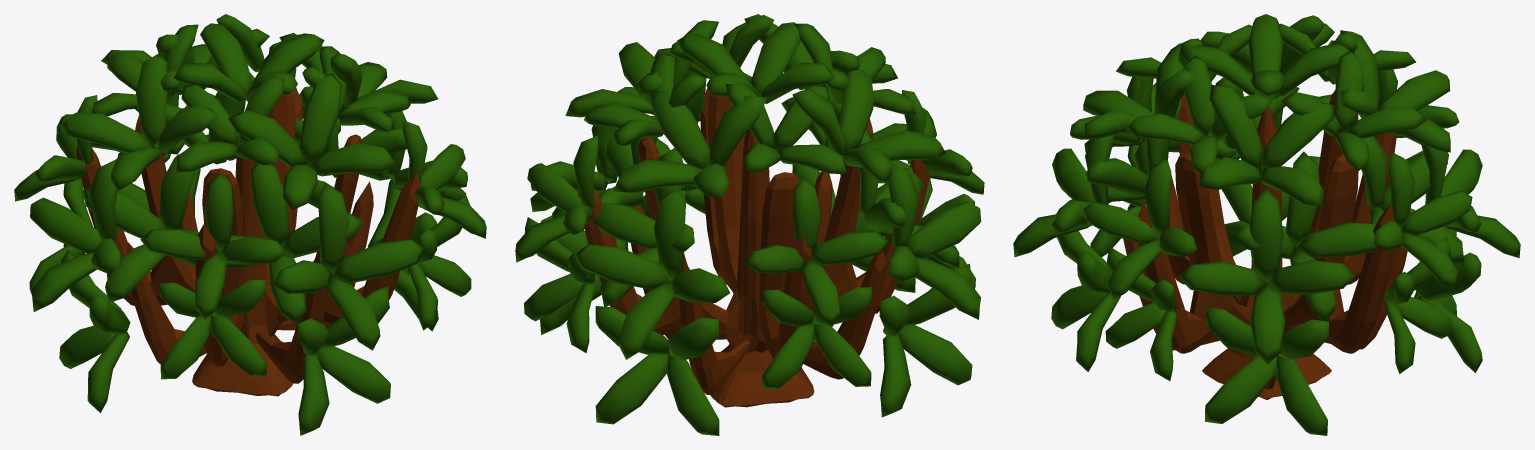
The model's file is 灌木丛(1).fbx.
3 renders of one model, left to right at view 1: azimuth 30°, elevation 25°; view 2: azimuth 150°, elevation 25°; view 3: azimuth 270°, elevation 25°, orthographic. The views are drawn at different scales.
Parts seen in each view (by area): view 1: 灌木丛; view 2: 灌木丛; view 3: 灌木丛.
Boxes of the visible parts, <box> form: 灌木丛: <box>14,14,486,435</box>; 灌木丛: <box>515,14,984,435</box>; 灌木丛: <box>1013,14,1520,435</box>.
Bounding box in the file's own units: 192 × 139 × 192.
